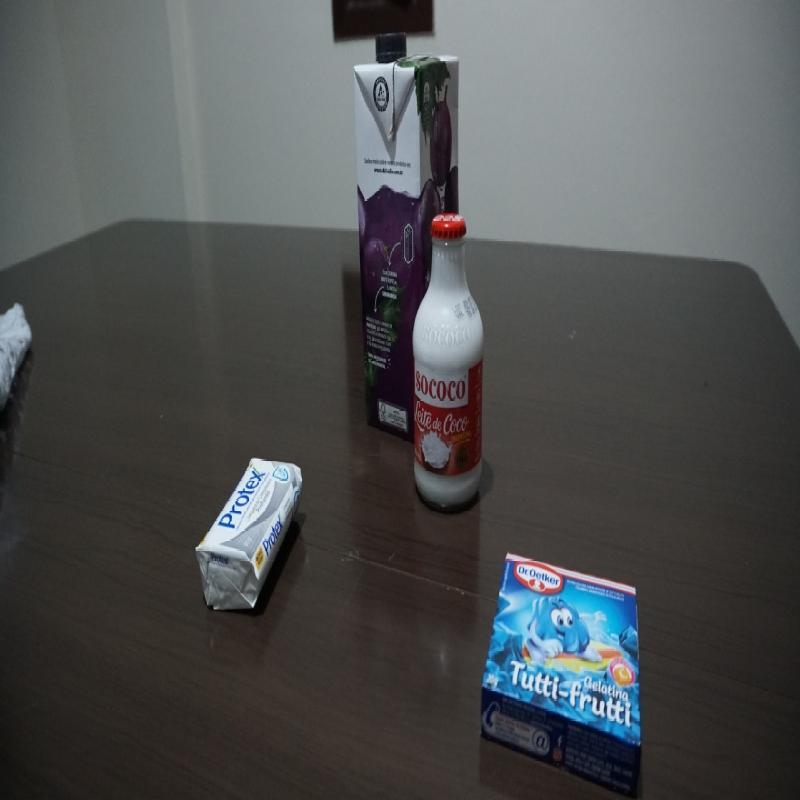Coconut Milk: (412, 212, 484, 511)
Gelatine: (481, 552, 644, 798)
Soap: (195, 452, 304, 616)
